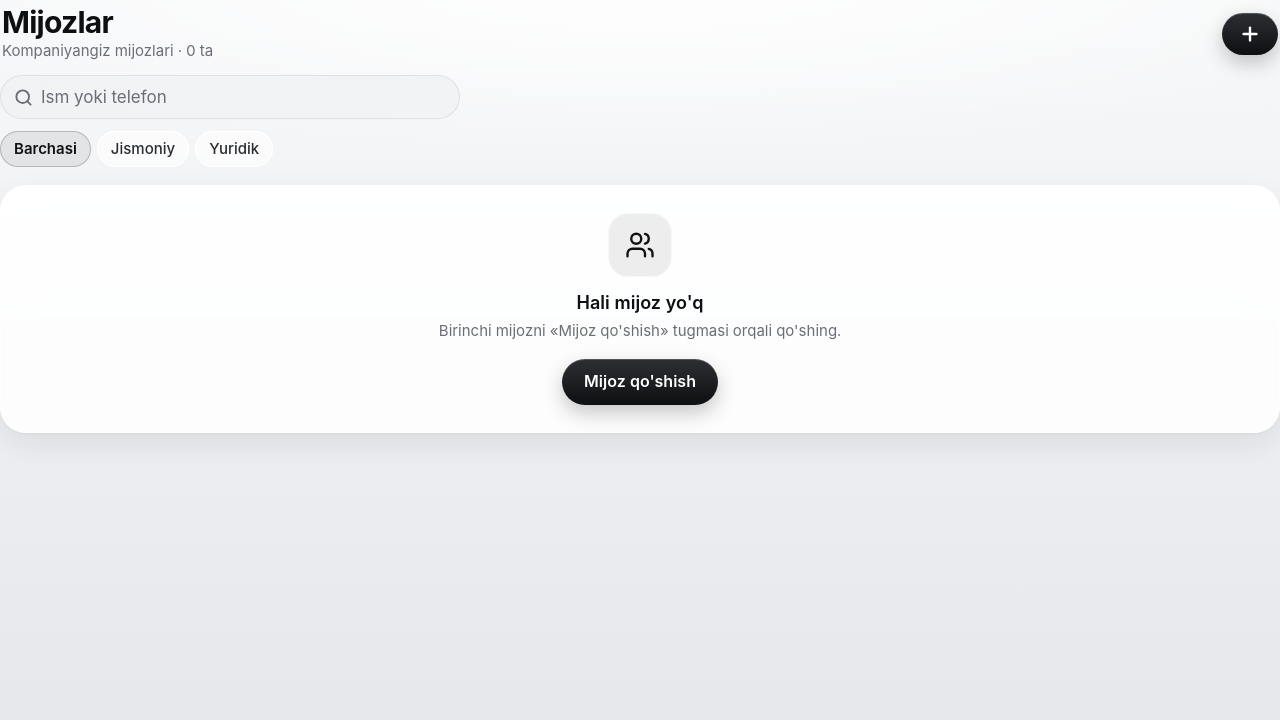
a choice whose dropdown offers nothing says so, and a required one cannot be saved
The width and height of the screenshot is (1280, 720).
Click the button named "Mijoz qo'shish". click: (1250, 34)
box: left=1222, top=13, right=1278, bottom=55
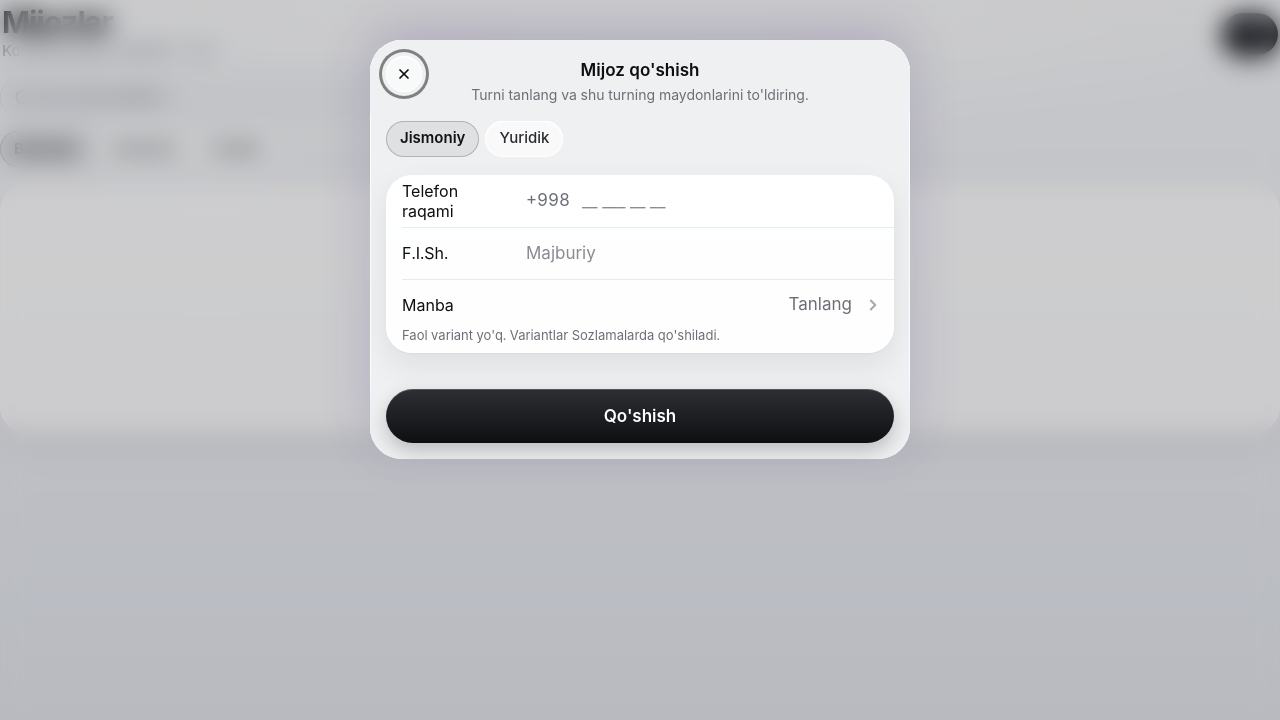
Expected: the text "Faol variant yo'q. Variantlar Sozlamalarda qo'shiladi." is shown, left=402, top=326, right=720, bottom=342
Click the button labelled "Manba Tanlang". click: (428, 304)
box: left=386, top=278, right=894, bottom=330
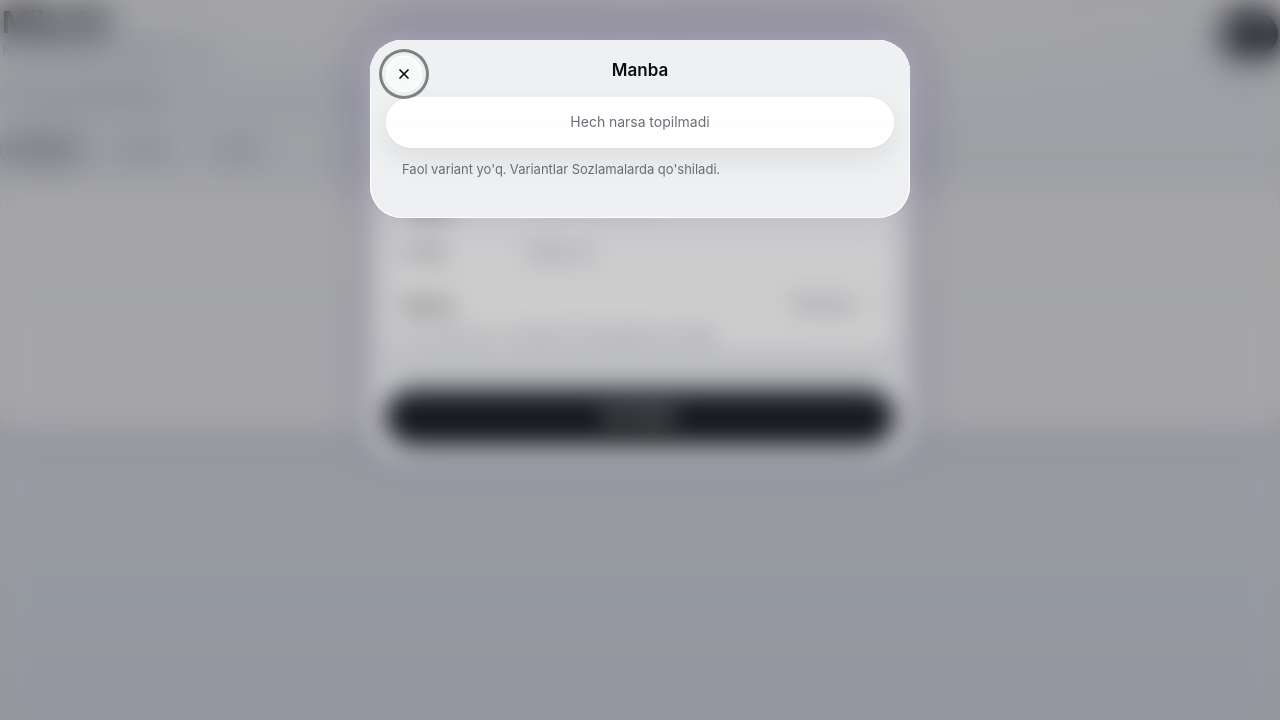
Press Escape
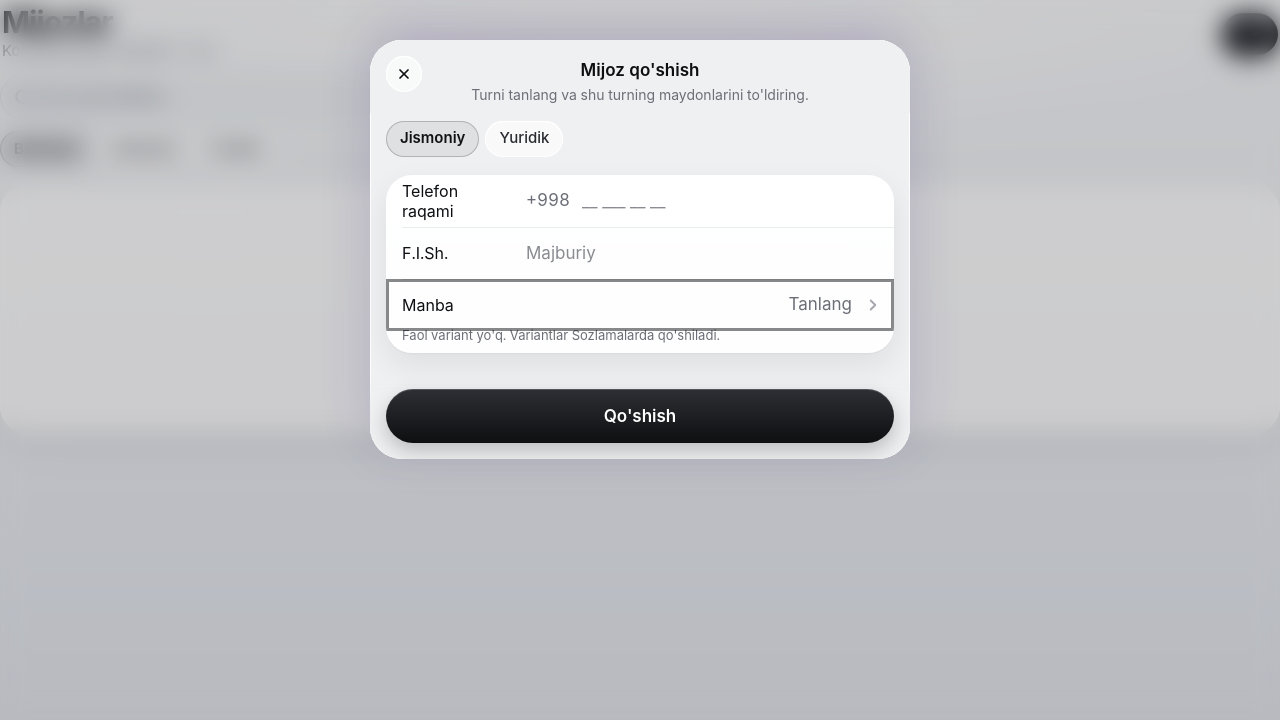
Type "901112233" into the field labelled "Telefon raqami". click: (730, 200)
box: left=582, top=178, right=878, bottom=222
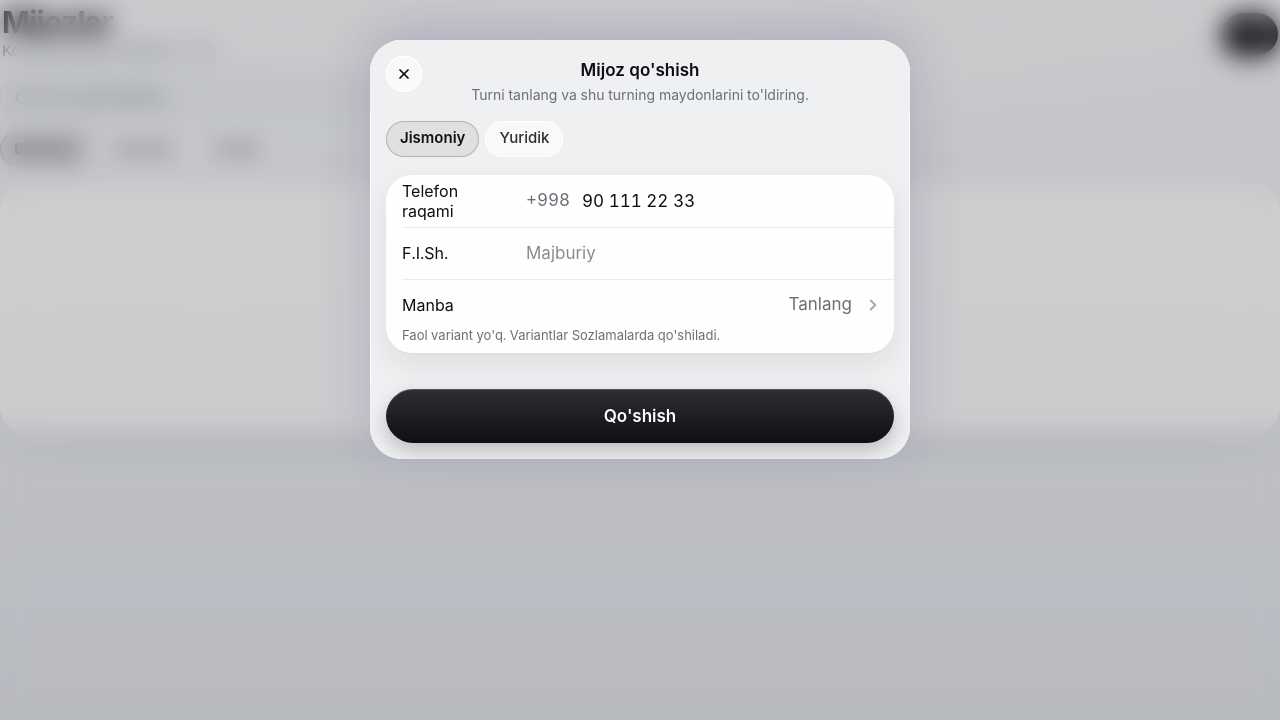
Type "Ali" into the field labelled "F.I.Sh.". click: (702, 252)
box: left=526, top=230, right=878, bottom=274
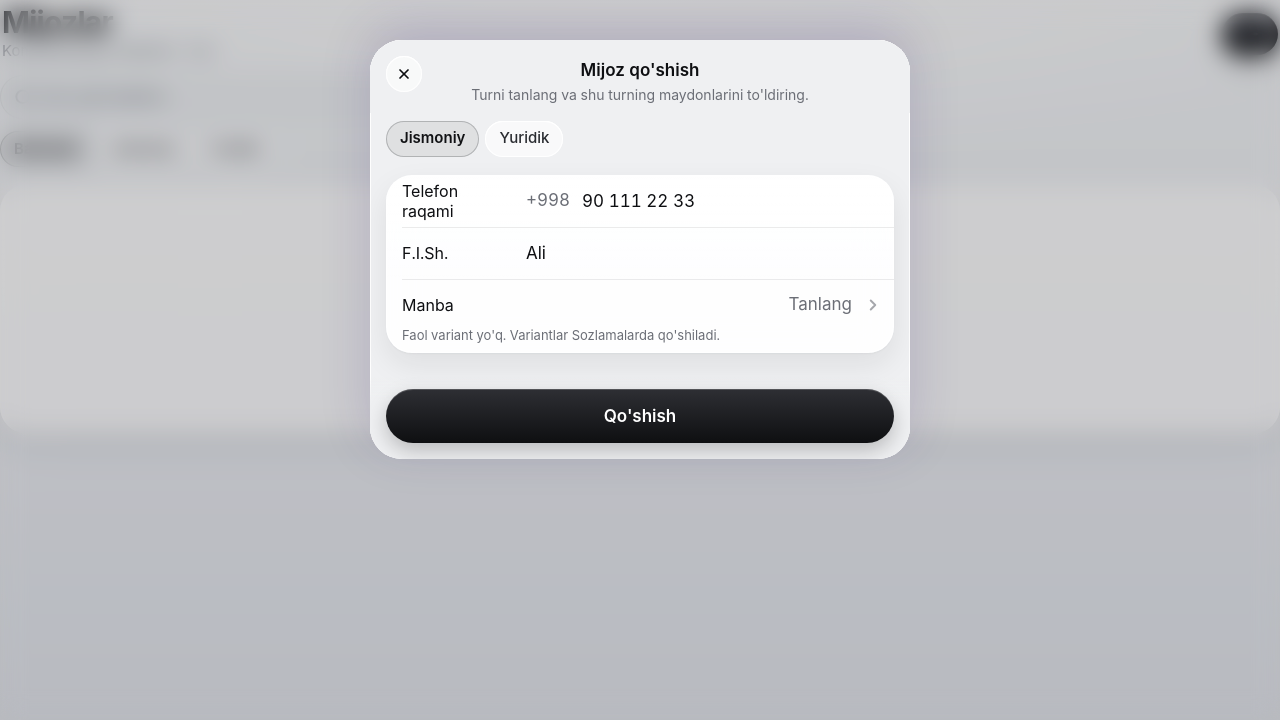
Click the button "Qo'shish". click: (640, 416)
box: left=386, top=389, right=894, bottom=443
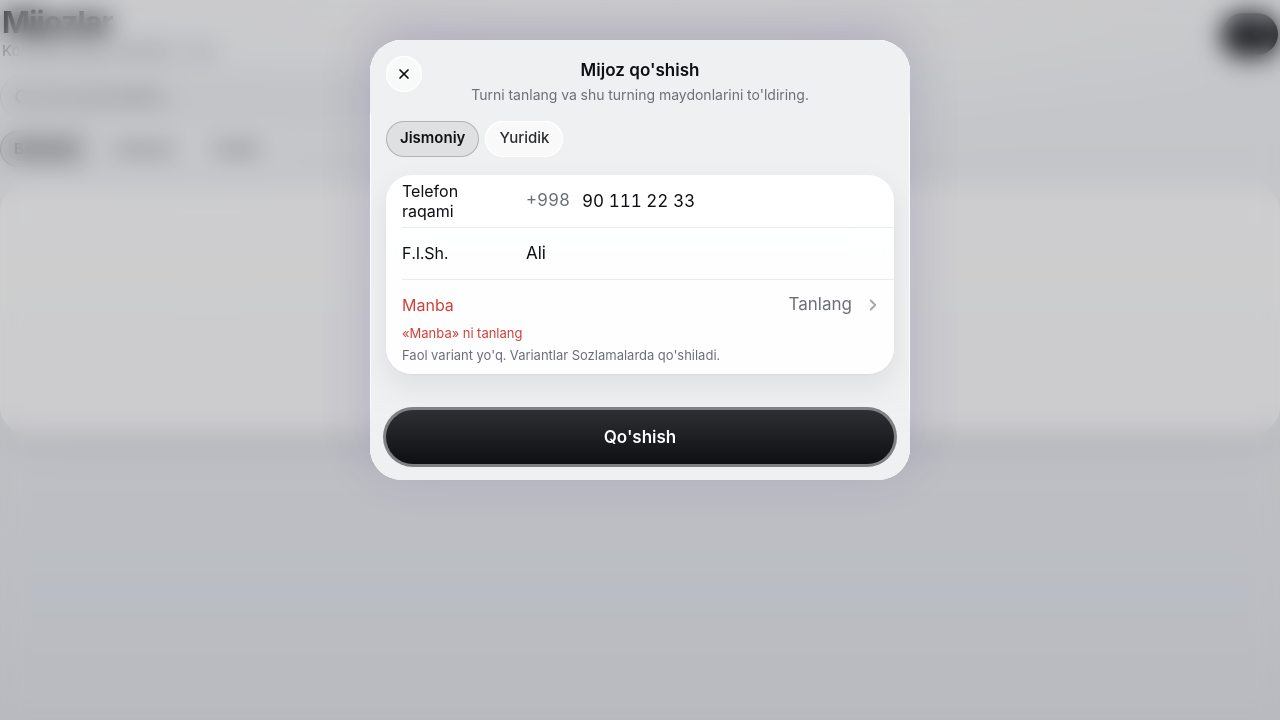
Expected: the text "«Manba» ni tanlang" is shown, left=402, top=324, right=522, bottom=340
